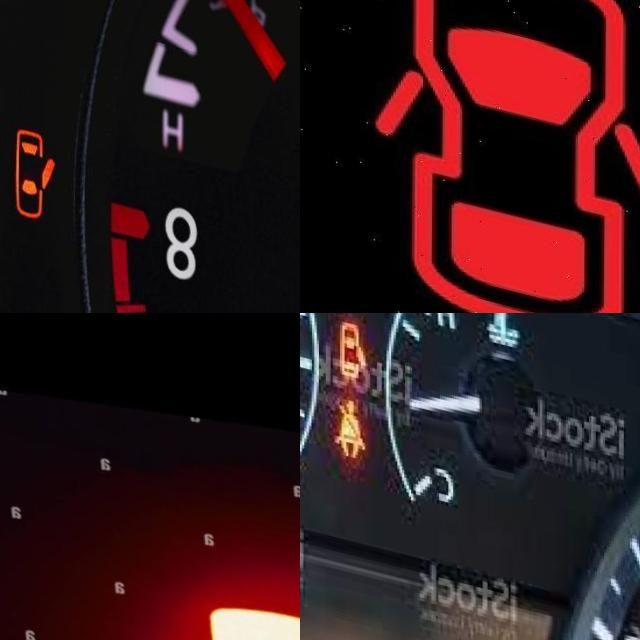Seat Belt: (334, 376, 366, 450)
